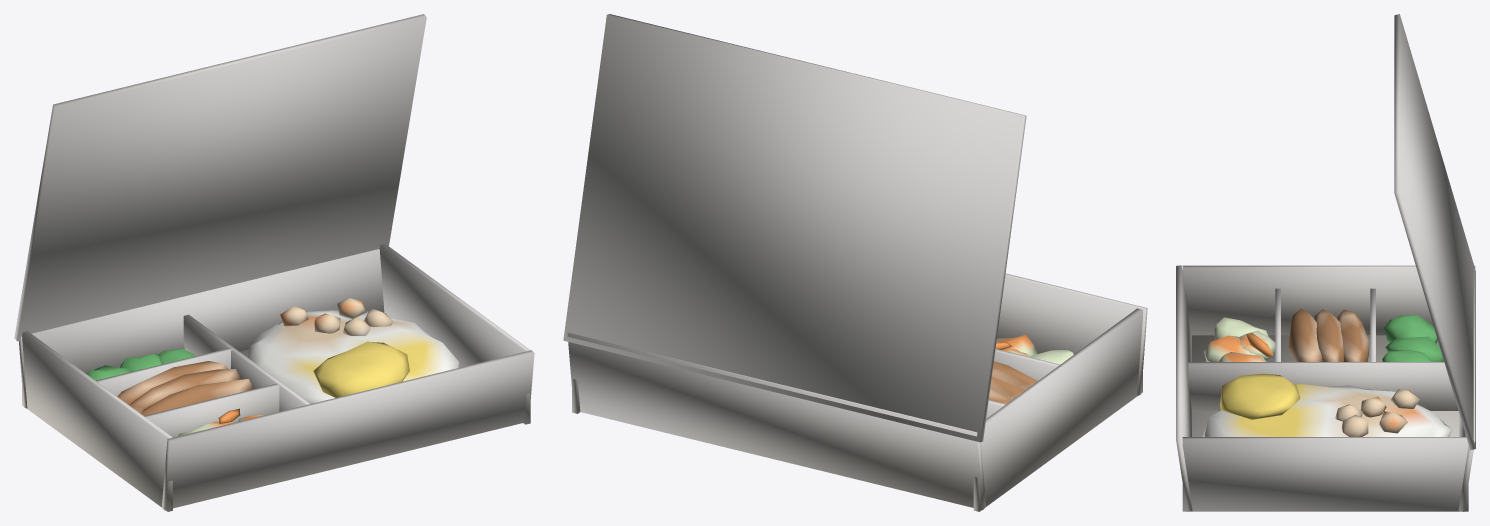
File: bento.glb
3 views of the same model, side by side, from view 1: azimuth 30°, elevation 25°; view 2: azimuth 150°, elevation 25°; view 3: azimuth 270°, elevation 25° (orthographic). The views are drawn at different scales.
Parts seen in each view (by area): view 1: Bento_Box, Bento_Food; view 2: Bento_Box, Bento_Food; view 3: Bento_Box, Bento_Food.
Part boxes in pixels (x1,y1,x2,y2): Bento_Box: (14, 14, 534, 511); Bento_Food: (85, 298, 458, 436); Bento_Box: (563, 14, 1147, 511); Bento_Food: (988, 334, 1073, 403); Bento_Box: (1176, 14, 1475, 511); Bento_Food: (1203, 308, 1452, 436).
Bounding box in the file's own units: 0.222 × 0.1877 × 0.1582.
